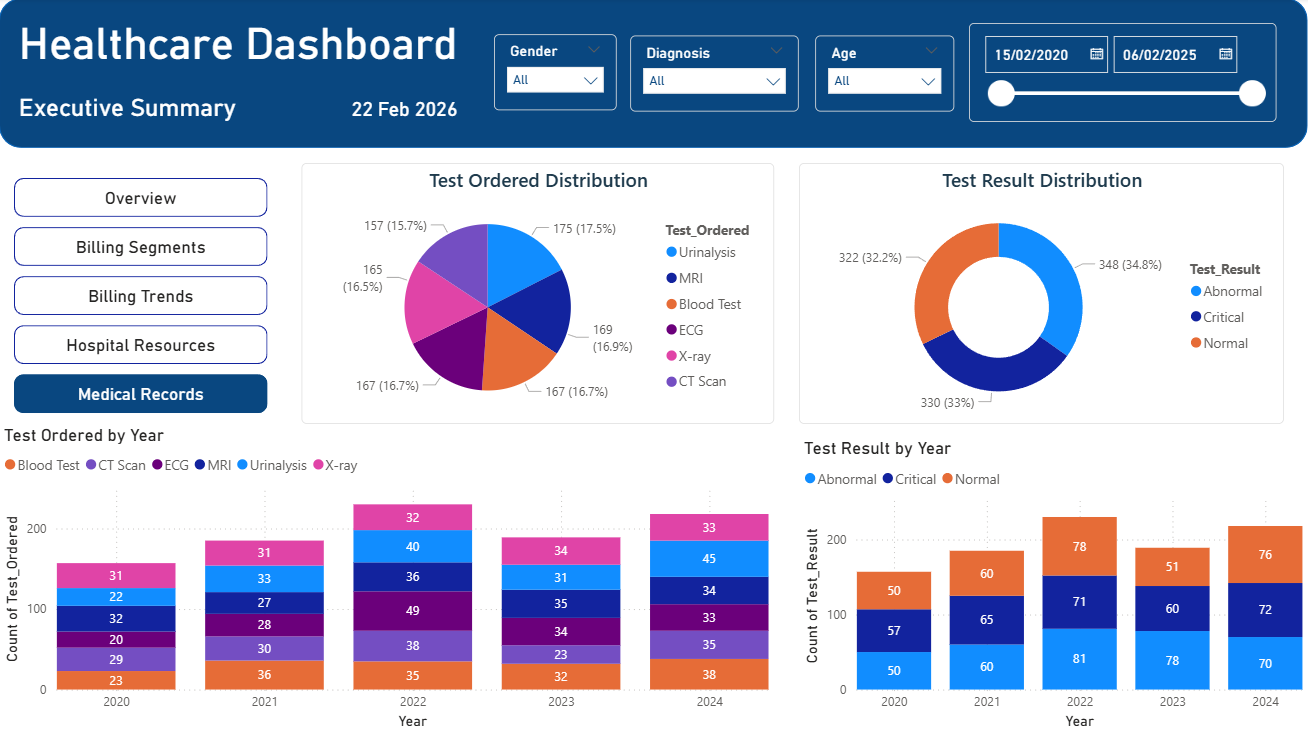

Layout of this report page (visuals, bound fields, positions):
{"tool":"powerbi","page":{"name":"Medical Records","canvas":[1280,720],"ordinal":4},"visuals":[{"type":"shape","box":[0,0,1280.3,146.7],"z":0,"group":"g1"},{"type":"pieChart","title":"Test Ordered Distribution","fields":{"Category":["medical_records.Test_Ordered"],"Y":["CountNonNull(medical_records.Patient_ID)"]},"box":[295.9,161.4,462.2,255.6],"z":0},{"type":"textbox","box":[14.7,14.7,454.9,59.9],"z":1000,"group":"g1"},{"type":"donutChart","title":"Test Result Distribution","fields":{"Category":["medical_records.Test_Result"],"Y":["CountNonNull(medical_records.Patient_ID)"]},"box":[782.6,161.4,474.5,255.6],"z":1000},{"type":"textbox","box":[14.7,88,223.8,40.4],"z":2000,"group":"g1"},{"type":"columnChart","title":"Test Ordered by Year","fields":{"Category":["medical_records.Date.Variation.Date Hierarchy.Year"],"Y":["CountNonNull(medical_records.Test_Ordered)"],"Series":["medical_records.Test_Ordered"]},"box":[0,417,758.2,303.3],"z":2000},{"type":"columnChart","title":"Test Result by Year","fields":{"Category":["medical_records.Date.Variation.Date Hierarchy.Year"],"Y":["CountNonNull(medical_records.Test_Result)"],"Series":["medical_records.Test_Result"]},"box":[782.6,430.4,497.7,289.8],"z":3000},{"type":"group","id":"g1","title":"Group 1","box":[0,0,1280.3,146.7],"z":4000},{"type":"pageNavigator","box":[14.7,176.1,248.2,232.3],"z":5000},{"type":"card","fields":{"Values":["patients.Today Label"]},"box":[335.1,88,123.5,41.6],"z":10000,"group":"g1"},{"type":"slicer","fields":{"Values":["patients.Diagnosis"]},"box":[617.5,36.7,165.1,74.6],"z":11000,"group":"g1"},{"type":"slicer","fields":{"Values":["billing.Billing_Date"]},"box":[948.9,24.5,300.8,96.6],"z":12000,"group":"g1"},{"type":"slicer","fields":{"Values":["patients.Gender"]},"box":[484.2,35.5,119.8,74.6],"z":26000,"group":"g1"},{"type":"slicer","fields":{"Values":["patients.Age Category"]},"box":[798.5,36.7,135.7,74.6],"z":27000,"group":"g1"}]}

Visuals, with their boxes in screenshot pixels (x1, y1, x2, y2), scaled from the page's 1280x720 canvas onto the 1308x734 screenshot:
shape: {"x1": 0, "y1": 0, "x2": 1307, "y2": 150}
"Test Ordered Distribution" pieChart: {"x1": 302, "y1": 165, "x2": 775, "y2": 425}
textbox: {"x1": 15, "y1": 15, "x2": 480, "y2": 76}
"Test Result Distribution" donutChart: {"x1": 800, "y1": 165, "x2": 1285, "y2": 425}
textbox: {"x1": 15, "y1": 90, "x2": 244, "y2": 131}
"Test Ordered by Year" columnChart: {"x1": 0, "y1": 425, "x2": 775, "y2": 733}
"Test Result by Year" columnChart: {"x1": 800, "y1": 439, "x2": 1307, "y2": 733}
"Group 1" group: {"x1": 0, "y1": 0, "x2": 1307, "y2": 150}
pageNavigator: {"x1": 15, "y1": 180, "x2": 269, "y2": 416}
card - patients.Today Label: {"x1": 342, "y1": 90, "x2": 469, "y2": 132}
slicer - patients.Diagnosis: {"x1": 631, "y1": 37, "x2": 800, "y2": 113}
slicer - billing.Billing_Date: {"x1": 970, "y1": 25, "x2": 1277, "y2": 123}
slicer - patients.Gender: {"x1": 495, "y1": 36, "x2": 617, "y2": 112}
slicer - patients.Age Category: {"x1": 816, "y1": 37, "x2": 955, "y2": 113}
